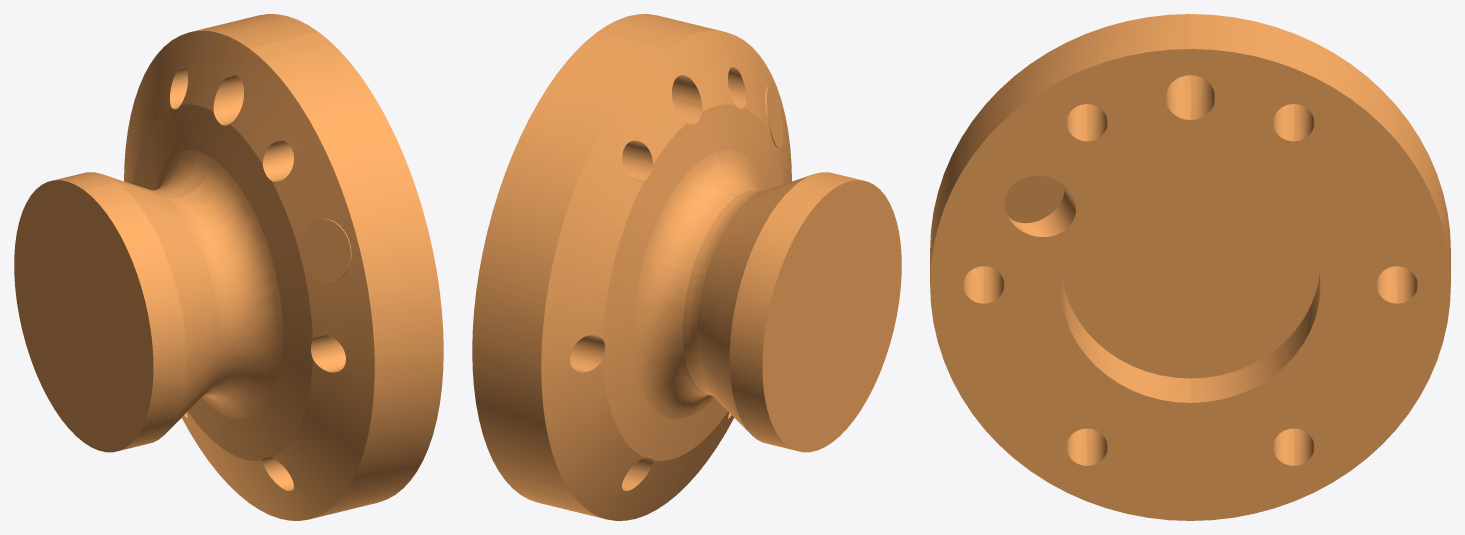
The picture shows the model from 3 angles, left to right: view 1: azimuth 30°, elevation 25°; view 2: azimuth 150°, elevation 25°; view 3: azimuth 270°, elevation 25°; orthographic projection. The views are drawn at different scales.
Visible parts, largest first — view 1: mesh_0; view 2: mesh_0; view 3: mesh_0.
Boxes of the visible parts, box(x1,y1,x2,y2) form: mesh_0: box(14, 14, 443, 520); mesh_0: box(472, 14, 901, 520); mesh_0: box(930, 14, 1450, 520).
Size of the model in its own units: 0.034 by 0.063 by 0.063.
